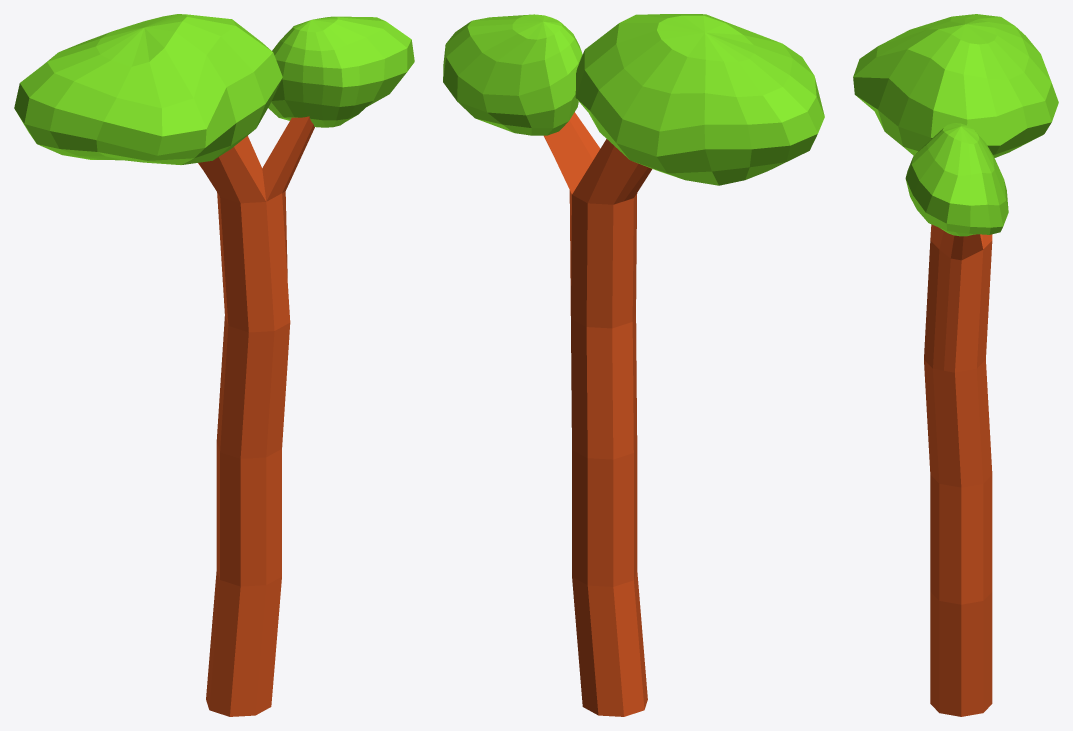
The model's file is Laubbaum_02_unsymetric_01_rdy.fbx.
The picture shows the model from 3 angles, left to right: view 1: azimuth 30°, elevation 25°; view 2: azimuth 150°, elevation 25°; view 3: azimuth 270°, elevation 25°; orthographic projection. The views are drawn at different scales.
Parts seen in each view (by area): view 1: Nadelbaum_02_unsymetric_01; view 2: Nadelbaum_02_unsymetric_01; view 3: Nadelbaum_02_unsymetric_01.
Part boxes in pixels (left/top/right/bottom): Nadelbaum_02_unsymetric_01: left=14, top=14, right=414, bottom=716; Nadelbaum_02_unsymetric_01: left=443, top=14, right=824, bottom=716; Nadelbaum_02_unsymetric_01: left=853, top=14, right=1058, bottom=716.
Bounding box in the file's own units: 841 × 1494 × 434.
